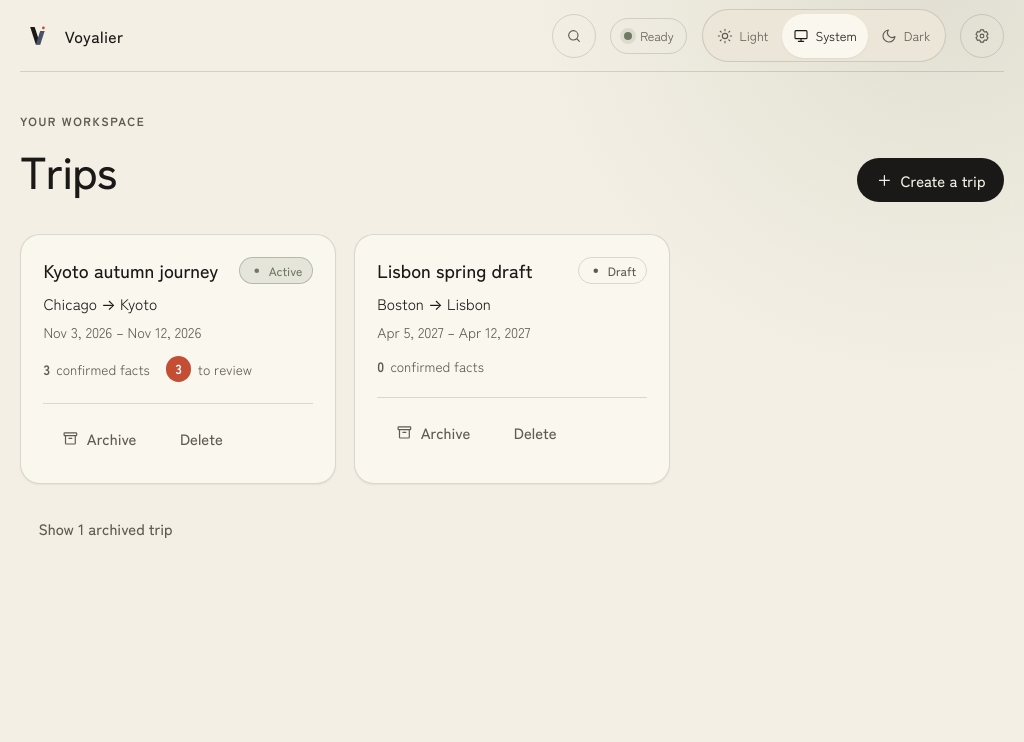
Test: destination facts › names the day the clocks move, and which way
This screenshot has width=1024, height=742.
Step 1. Click the button with aria-label "Open Kyoto autumn journey" → (131, 270), box left=43, top=257, right=218, bottom=283
(page scrolled)
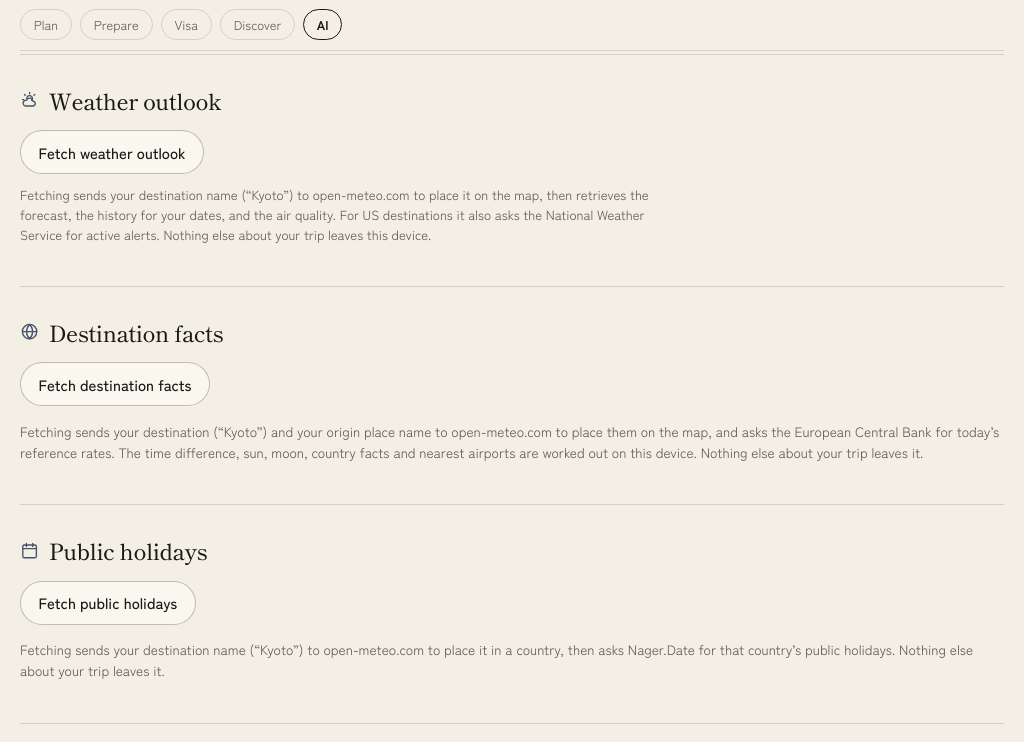
Step 2. Click the button "Fetch destination facts" → (115, 384), box left=20, top=362, right=210, bottom=406
(page scrolled)
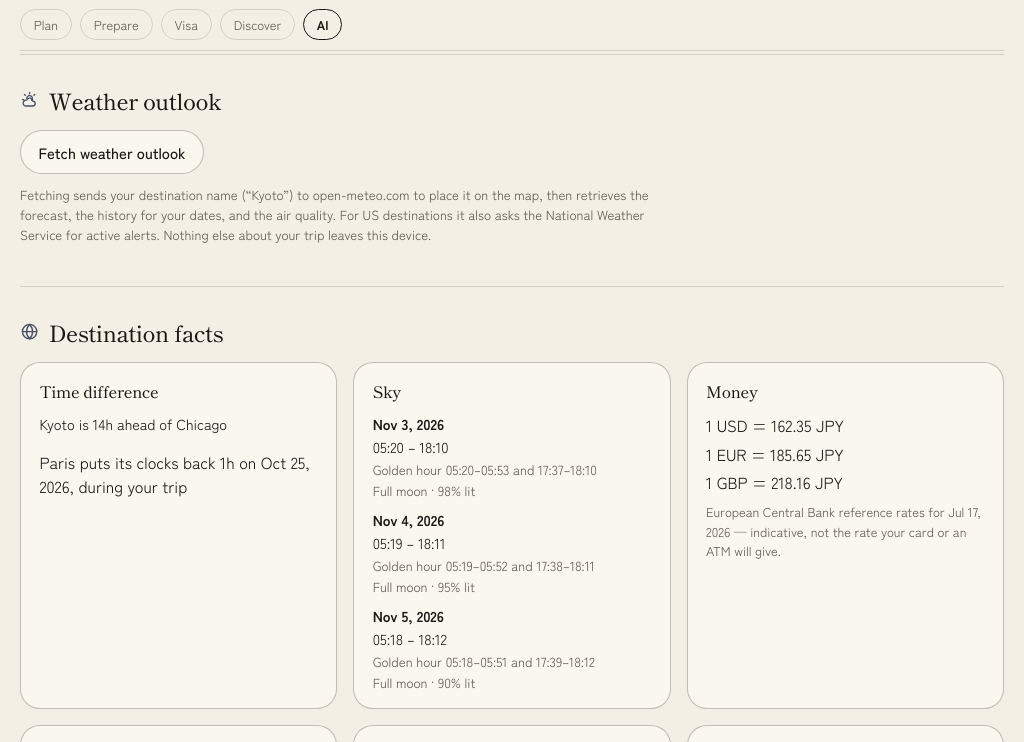
Check: the heading "Sky" is shown, box left=373, top=379, right=401, bottom=403
Check: the text "Paris puts its clocks back 1h" is shown, box left=39, top=450, right=310, bottom=498
